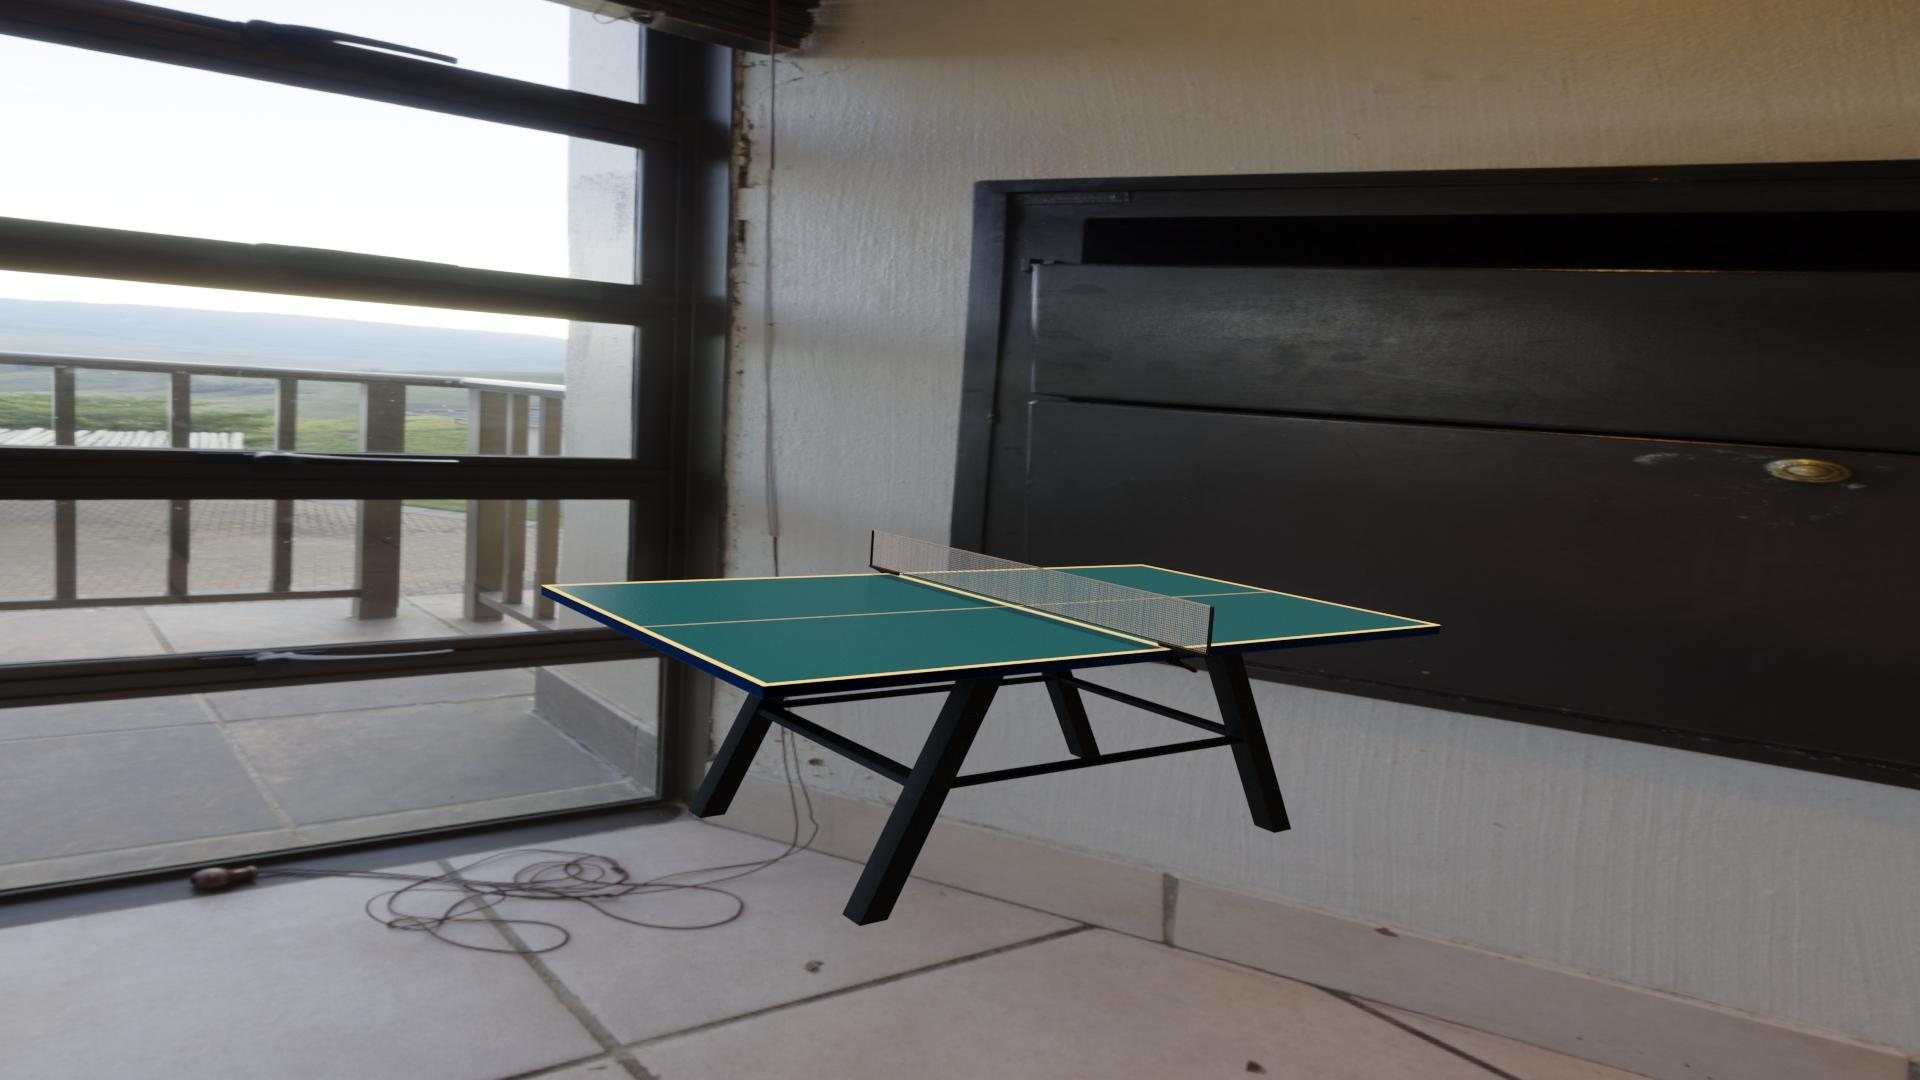table: (550, 566, 1433, 683)
